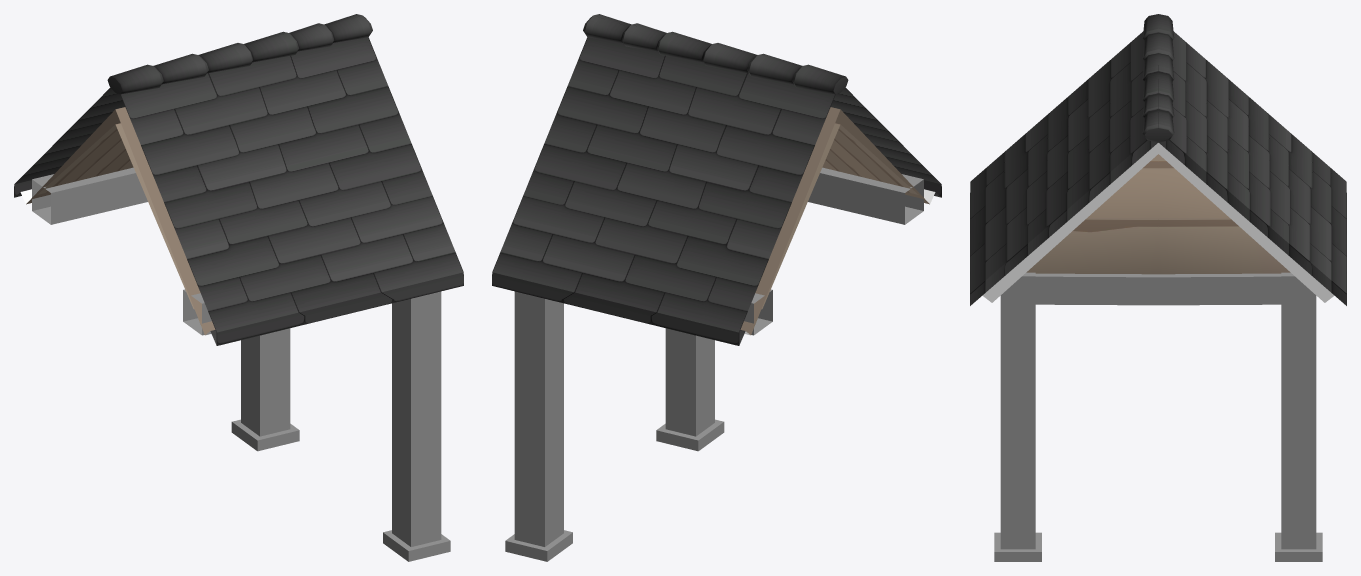
The model's file is SM_Bld_House_Porch_02.obj.
3 views of the same model, side by side, from view 1: azimuth 30°, elevation 25°; view 2: azimuth 150°, elevation 25°; view 3: azimuth 270°, elevation 25° (orthographic). The views are drawn at different scales.
Parts seen in each view (by area): view 1: SM_Bld_House_Porch_02_mat_HouseRoof_01, SM_Bld_House_Porch_02_Mat_SwatchOverlay_PolygonTown_01_Wood_Inst, SM_Bld_House_Porch_02_mi_HouseExteriorWalls_01; view 2: SM_Bld_House_Porch_02_mat_HouseRoof_01, SM_Bld_House_Porch_02_Mat_SwatchOverlay_PolygonTown_01_Wood_Inst, SM_Bld_House_Porch_02_mi_HouseExteriorWalls_01; view 3: SM_Bld_House_Porch_02_mat_HouseRoof_01, SM_Bld_House_Porch_02_Mat_SwatchOverlay_PolygonTown_01_Wood_Inst, SM_Bld_House_Porch_02_mi_HouseExteriorWalls_01, SM_Bld_House_Porch_02_mi_HouseInteriorWalls_01.
Boxes of the visible parts, <box> form: SM_Bld_House_Porch_02_mat_HouseRoof_01: <box>14,14,463,345</box>; SM_Bld_House_Porch_02_Mat_SwatchOverlay_PolygonTown_01_Wood_Inst: <box>32,167,450,561</box>; SM_Bld_House_Porch_02_mi_HouseExteriorWalls_01: <box>26,107,215,334</box>; SM_Bld_House_Porch_02_mat_HouseRoof_01: <box>492,14,941,345</box>; SM_Bld_House_Porch_02_Mat_SwatchOverlay_PolygonTown_01_Wood_Inst: <box>505,167,923,561</box>; SM_Bld_House_Porch_02_mi_HouseExteriorWalls_01: <box>740,107,929,334</box>; SM_Bld_House_Porch_02_mat_HouseRoof_01: <box>970,14,1346,305</box>; SM_Bld_House_Porch_02_Mat_SwatchOverlay_PolygonTown_01_Wood_Inst: <box>994,272,1322,561</box>; SM_Bld_House_Porch_02_mi_HouseExteriorWalls_01: <box>1026,154,1290,274</box>; SM_Bld_House_Porch_02_mi_HouseInteriorWalls_01: <box>982,143,1334,302</box>.
Size of the model in its own units: 3.66 by 6.58 by 5.12.
Materials: 4 (3 with a texture image).
